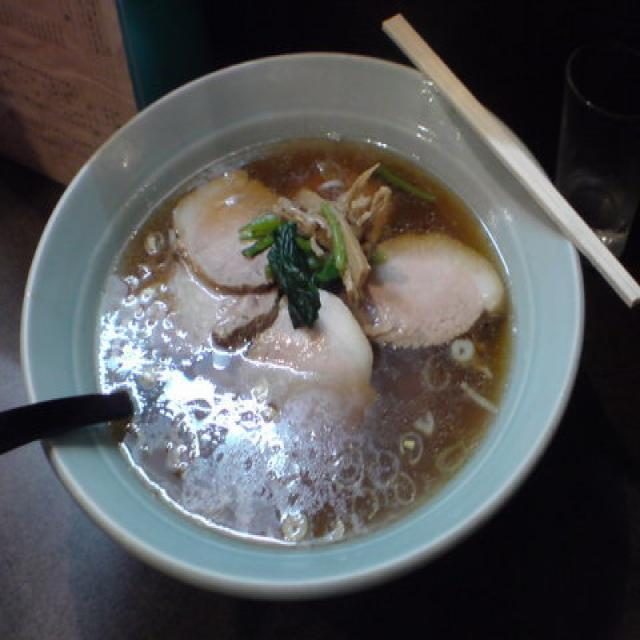面条主食: (28, 39, 580, 597)
